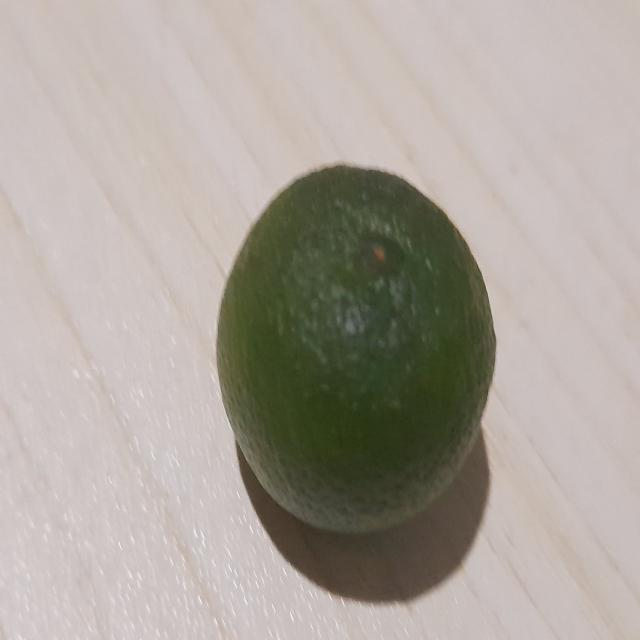heathy: (215, 158, 503, 547)
